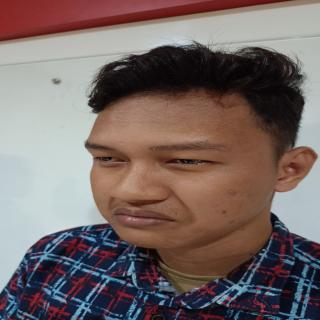Sedih: (81, 88, 290, 253)
